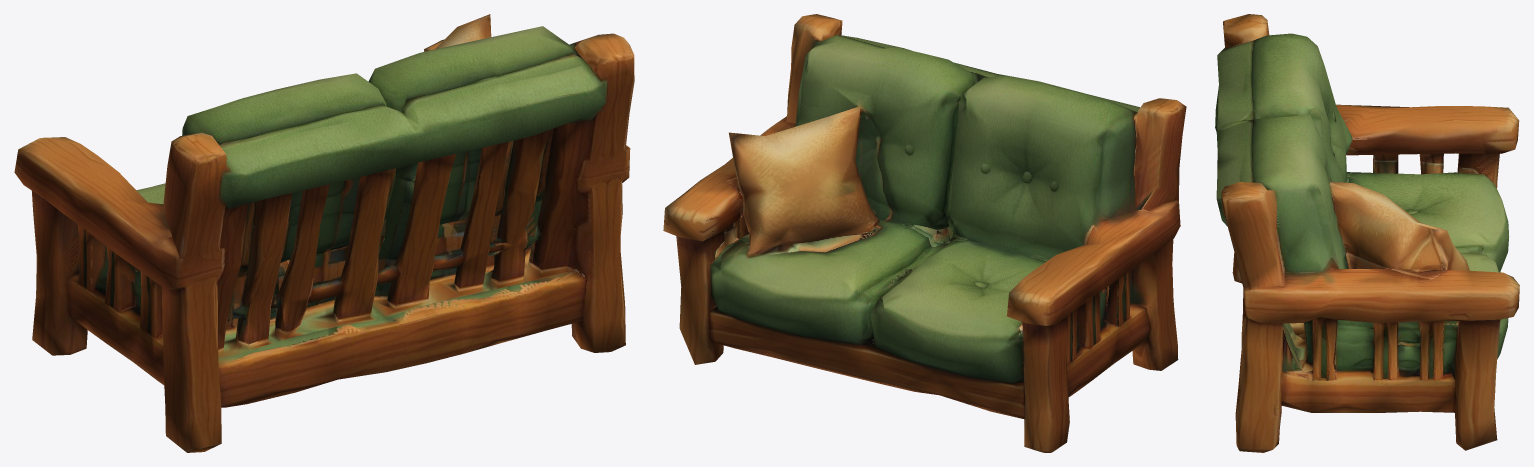
File: SM_Env_Sofa.fbx
3 renders of one model, left to right at view 1: azimuth 30°, elevation 25°; view 2: azimuth 150°, elevation 25°; view 3: azimuth 270°, elevation 25°, orthographic. The views are drawn at different scales.
Parts seen in each view (by area): view 1: SM_Env_Sofa; view 2: SM_Env_Sofa; view 3: SM_Env_Sofa.
Part boxes in pixels (<box>): SM_Env_Sofa: <box>14,14,634,452</box>; SM_Env_Sofa: <box>663,14,1186,452</box>; SM_Env_Sofa: <box>1215,14,1519,452</box>.
Size of the model in its own units: 1.11 by 0.72 by 0.7529.
